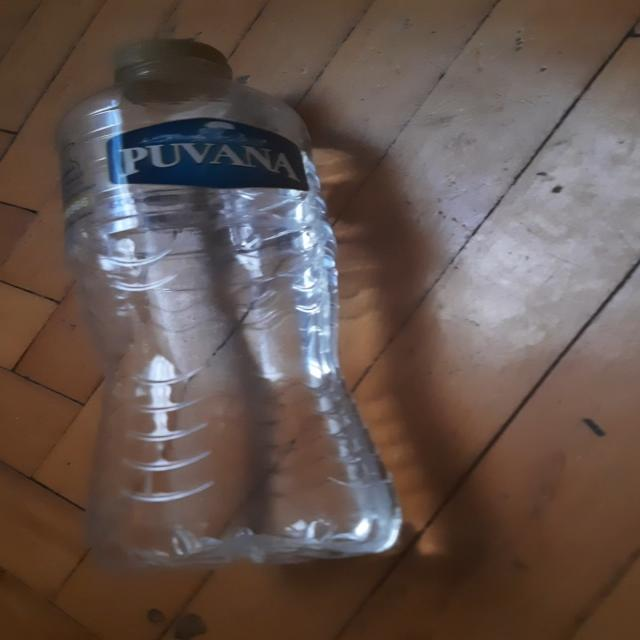Plastic: (53, 39, 405, 580)
